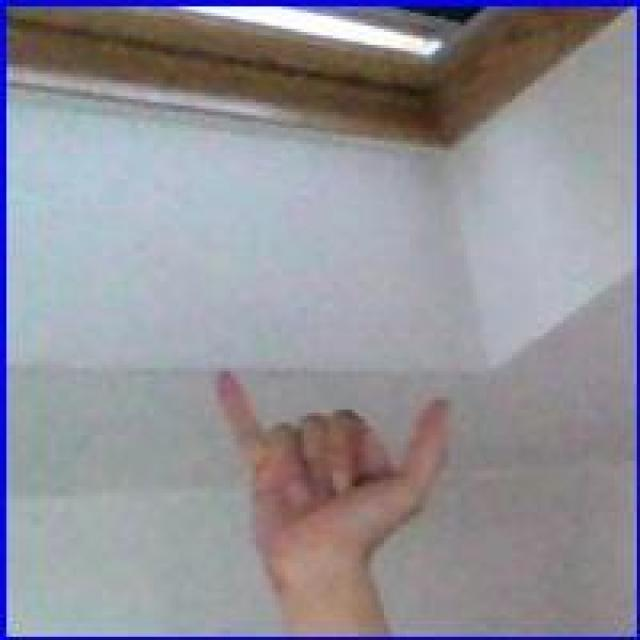Y: (198, 368, 464, 522)
